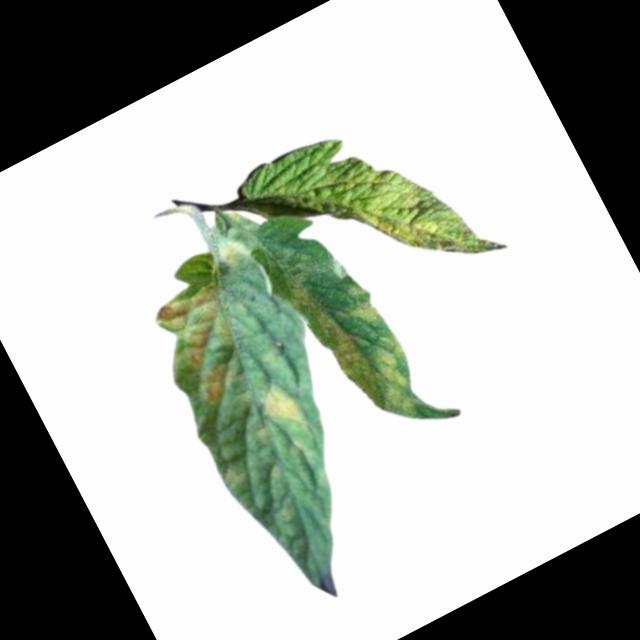Leaf_Mold: (324, 121, 509, 308), (285, 253, 434, 446), (144, 278, 269, 419), (252, 376, 310, 439)
